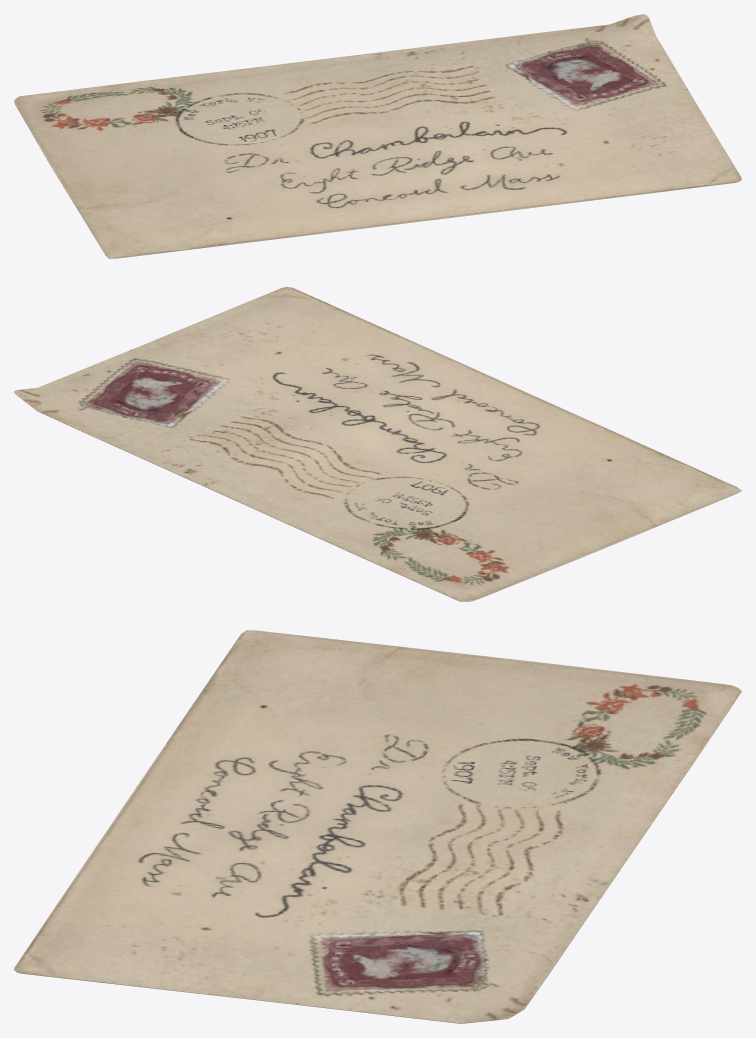
Rendered from Envelope C.fbx.
3 renders of one model, top to bottom at view 1: azimuth 30°, elevation 25°; view 2: azimuth 150°, elevation 25°; view 3: azimuth 270°, elevation 25°, orthographic. The views are drawn at different scales.
Parts seen in each view (by area): view 1: Envelope C; view 2: Envelope C; view 3: Envelope C.
Boxes of the visible parts, box(x1,y1,x2,y2) form: Envelope C: box(14, 14, 741, 258); Envelope C: box(14, 287, 741, 601); Envelope C: box(14, 630, 741, 1023).
Size of the model in its own units: 18.71 by 0.5677 by 14.01.
Materials: 1 (1 with a texture image).
